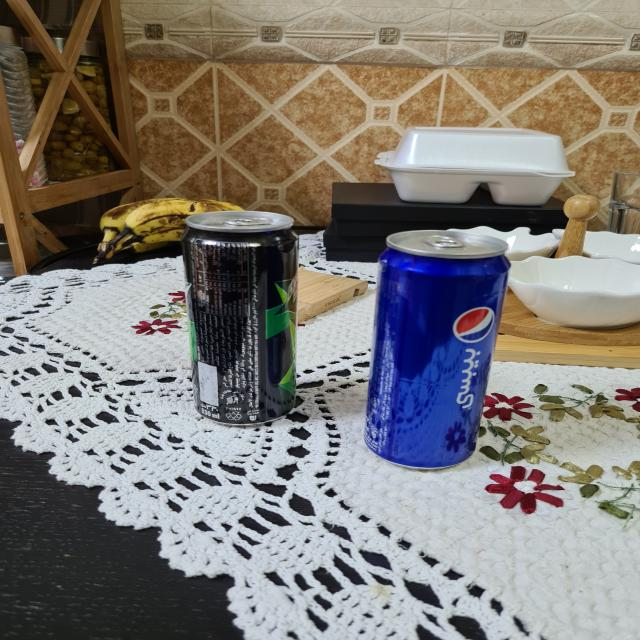non-organic waste: (342, 229, 520, 473), (176, 210, 312, 429)
